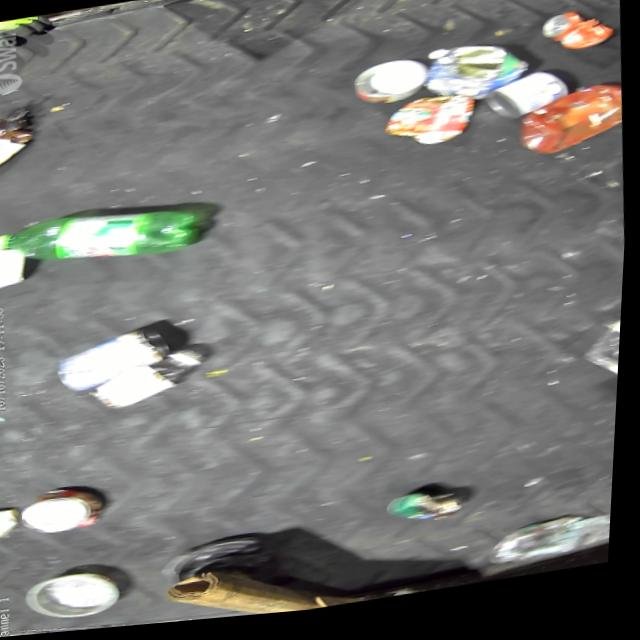can: (54, 324, 181, 397), (20, 482, 115, 542), (480, 74, 577, 132), (348, 60, 429, 117), (536, 15, 617, 67)
non_white_jug: (512, 92, 626, 170)
plastic_bottle: (490, 520, 617, 576)
